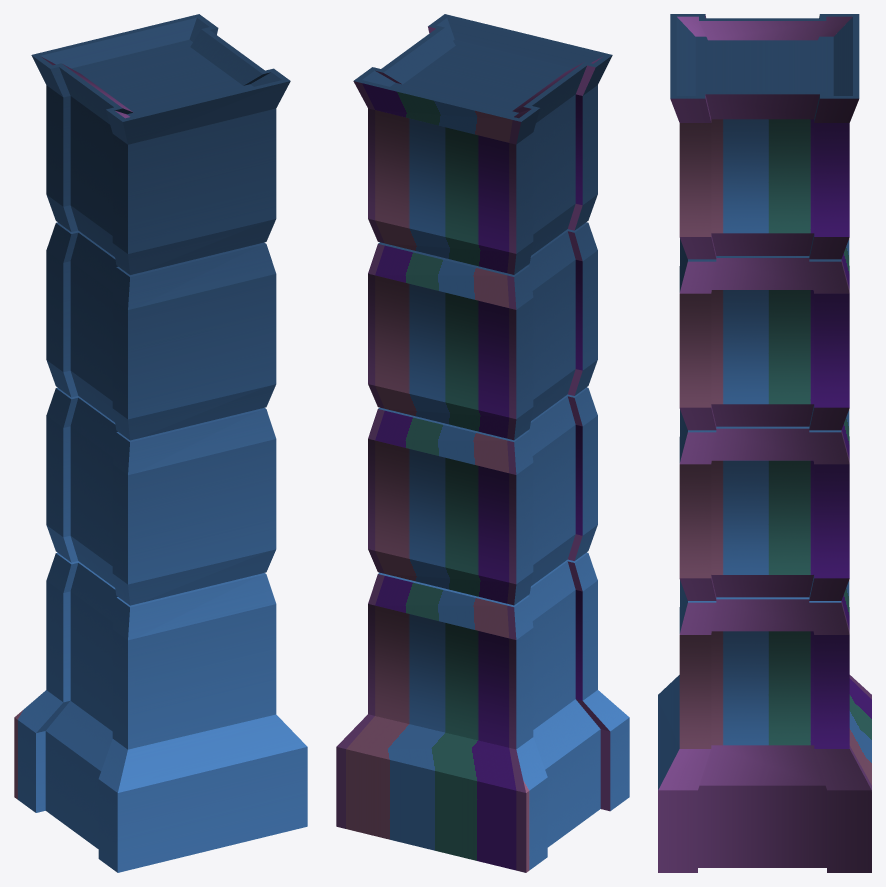
File: BlockPillar.FBX
3 views of the same model, side by side, from view 1: azimuth 30°, elevation 25°; view 2: azimuth 150°, elevation 25°; view 3: azimuth 270°, elevation 25° (orthographic). The views are drawn at different scales.
Parts seen in each view (by area): view 1: Block Pillar; view 2: Block Pillar; view 3: Block Pillar.
Part boxes in pixels (x1,y1,x2,y2): Block Pillar: (14, 14, 307, 872); Block Pillar: (336, 14, 629, 872); Block Pillar: (658, 14, 871, 872).
Size of the model in its own units: 7.28 by 27.26 by 6.87.
Materials: 1 (1 with a texture image).
